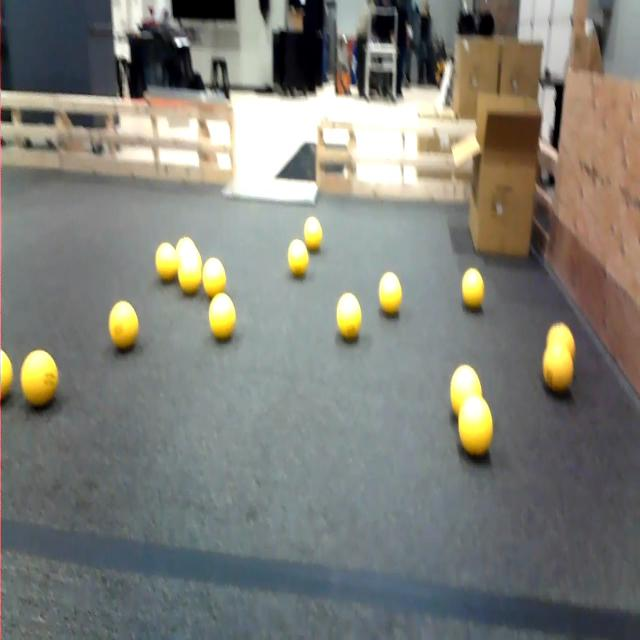fuel: (21, 350, 58, 407), (459, 396, 493, 456), (450, 365, 482, 415), (543, 343, 573, 393), (109, 301, 138, 351), (209, 293, 235, 340), (337, 293, 361, 341), (178, 252, 202, 295), (547, 323, 575, 359), (379, 272, 402, 315), (202, 258, 226, 298), (462, 268, 484, 310), (155, 243, 178, 281), (176, 237, 202, 269), (288, 240, 308, 277), (303, 216, 323, 252), (0, 351, 13, 400), (176, 237, 195, 255)
